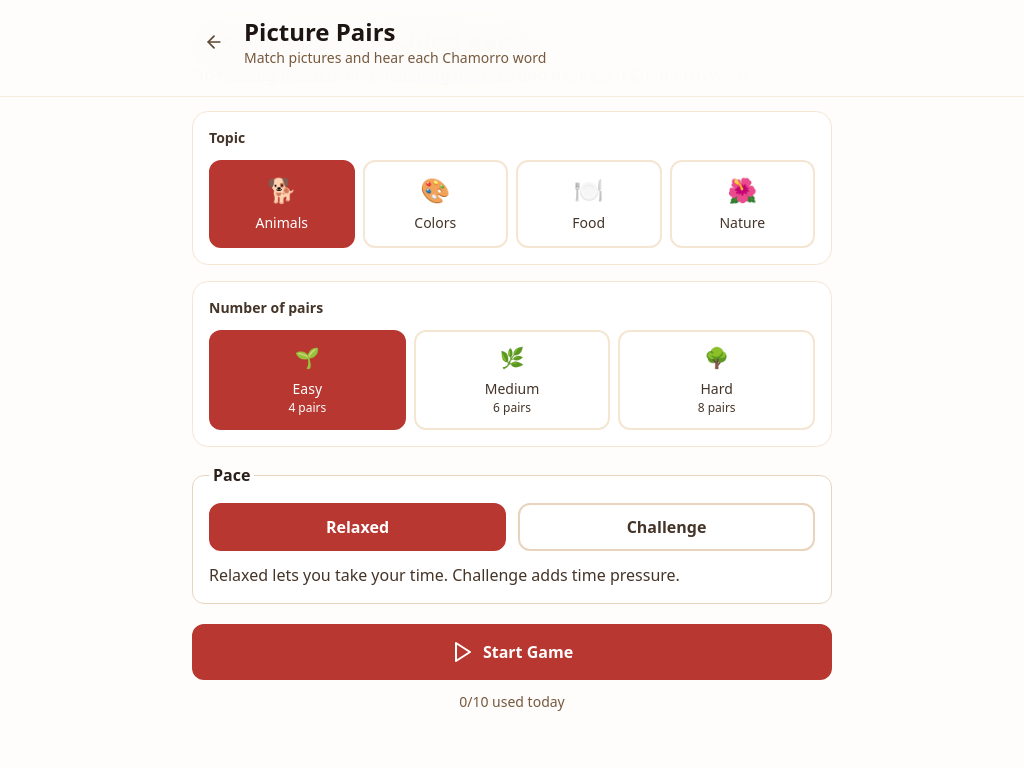
game result and round reliability › Picture Pairs guards header, browser Back and close, then leaves once
The image size is (1024, 768).
Later steps or results of the test are not shown.
(page scrolled)
Click the button "Start Game": (512, 652) [192, 624, 832, 680]
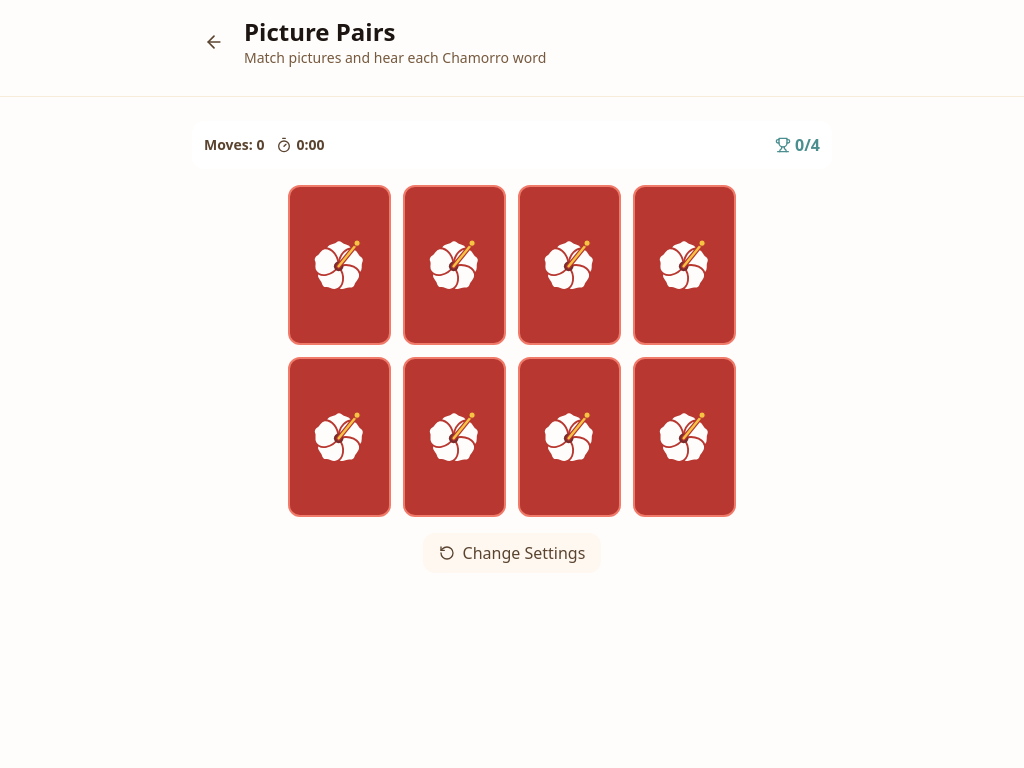
Now the button "Start Game" is gone
Click the link named "Back to games": (214, 42) [204, 32, 224, 52]
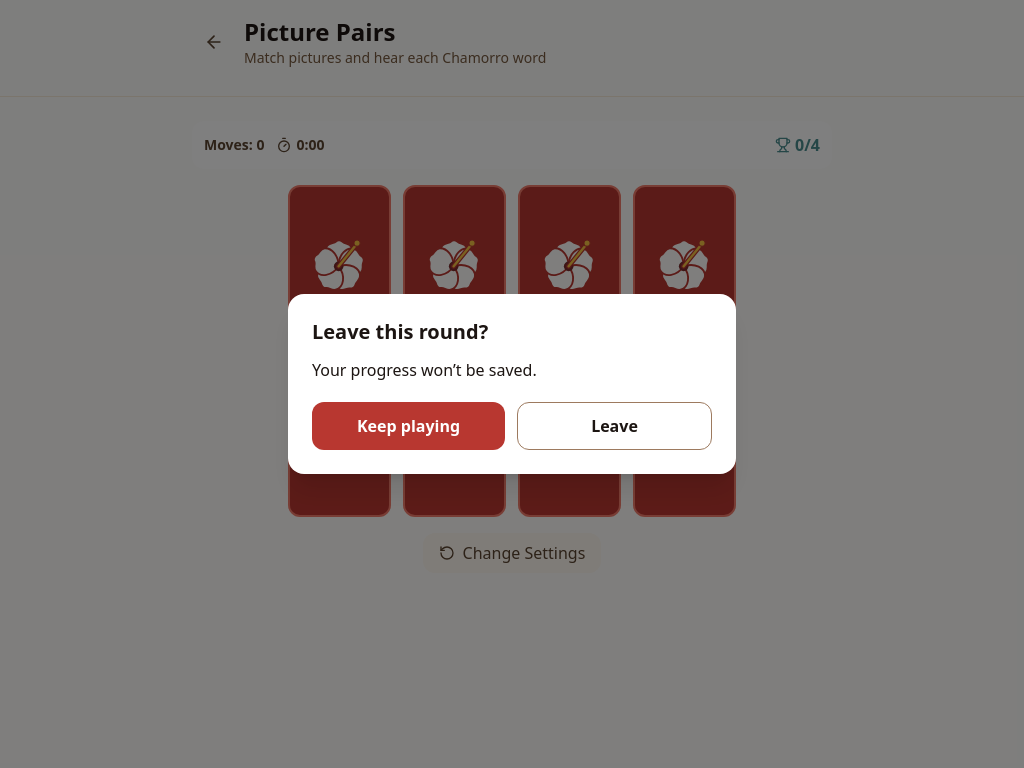
Now the dialog shows "Leave this round?", box [312, 318, 488, 345]
